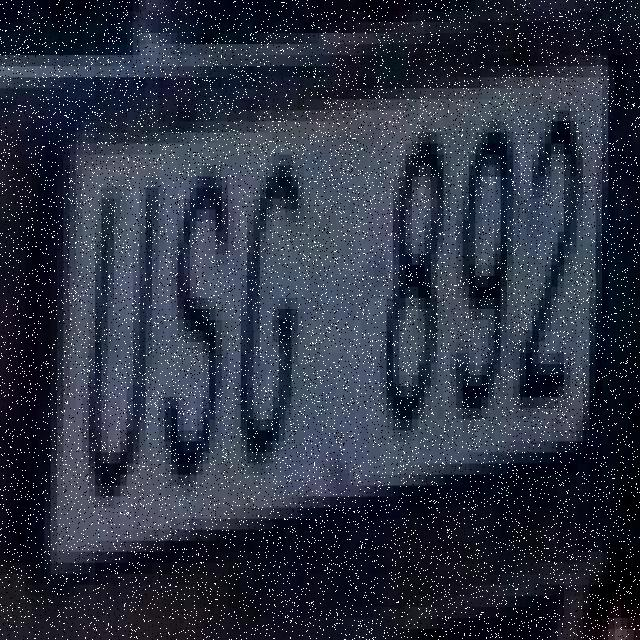licenseplate: (24, 24, 610, 594)
